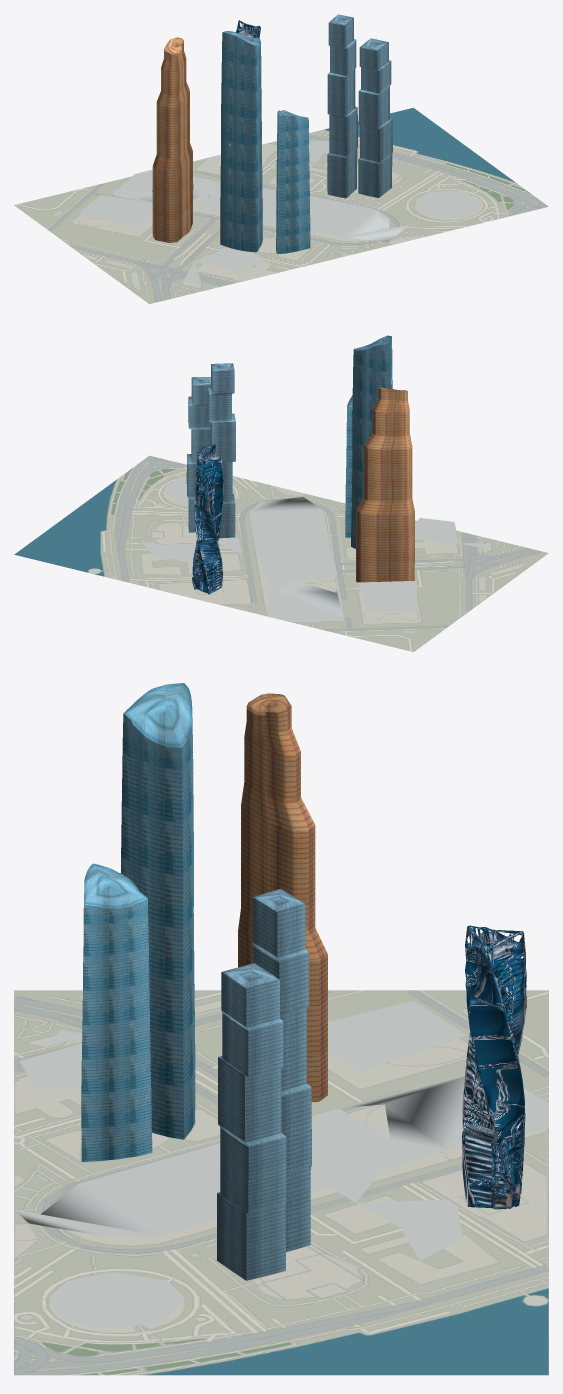
The model's file is center-01.glb.
3 views of the same model, one above another, from view 1: azimuth 30°, elevation 25°; view 2: azimuth 150°, elevation 25°; view 3: azimuth 270°, elevation 25° (orthographic). The views are drawn at different scales.
Visible parts, largest first — view 1: Presnenskaya embankment, Surrounding relief, federation-1, mercury-1, capitals-1, capitals-2, federation-2; view 2: Presnenskaya embankment, Surrounding relief, mercury-1, federation-1, evolution, capitals-1, capitals-2, federation-2; view 3: Presnenskaya embankment, Surrounding relief, federation-1, capitals-2, federation-2, mercury-1, evolution, capitals-1.
Boxes of the visible parts, bbox=[...] form: Presnenskaya embankment: bbox=[14, 107, 548, 304]; Surrounding relief: bbox=[79, 140, 483, 282]; federation-1: bbox=[220, 31, 262, 252]; mercury-1: bbox=[152, 37, 193, 242]; capitals-1: bbox=[327, 14, 357, 198]; capitals-2: bbox=[358, 38, 392, 197]; federation-2: bbox=[276, 110, 310, 253]; Presnenskaya embankment: bbox=[14, 455, 548, 651]; Surrounding relief: bbox=[141, 478, 490, 620]; mercury-1: bbox=[356, 387, 414, 582]; federation-1: bbox=[351, 335, 392, 548]; evolution: bbox=[192, 444, 223, 594]; capitals-1: bbox=[207, 363, 235, 538]; capitals-2: bbox=[186, 377, 210, 532]; federation-2: bbox=[345, 395, 352, 537]; Presnenskaya embankment: bbox=[14, 990, 548, 1375]; Surrounding relief: bbox=[14, 1000, 548, 1327]; federation-1: bbox=[121, 683, 195, 1139]; capitals-2: bbox=[217, 963, 286, 1280]; federation-2: bbox=[81, 863, 152, 1161]; mercury-1: bbox=[238, 693, 327, 1101]; evolution: bbox=[462, 925, 526, 1209]; capitals-1: bbox=[252, 889, 311, 1251].
Size of the model in its own units: 735 by 378 by 431.
5 materials, 5 textured.
